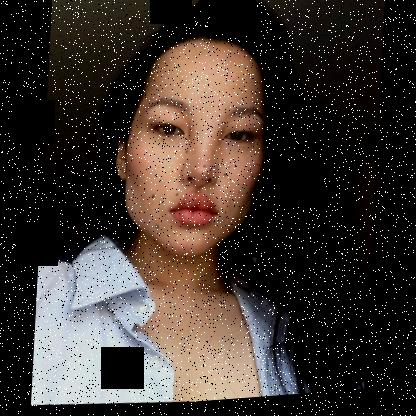Female: (108, 36, 272, 266)
